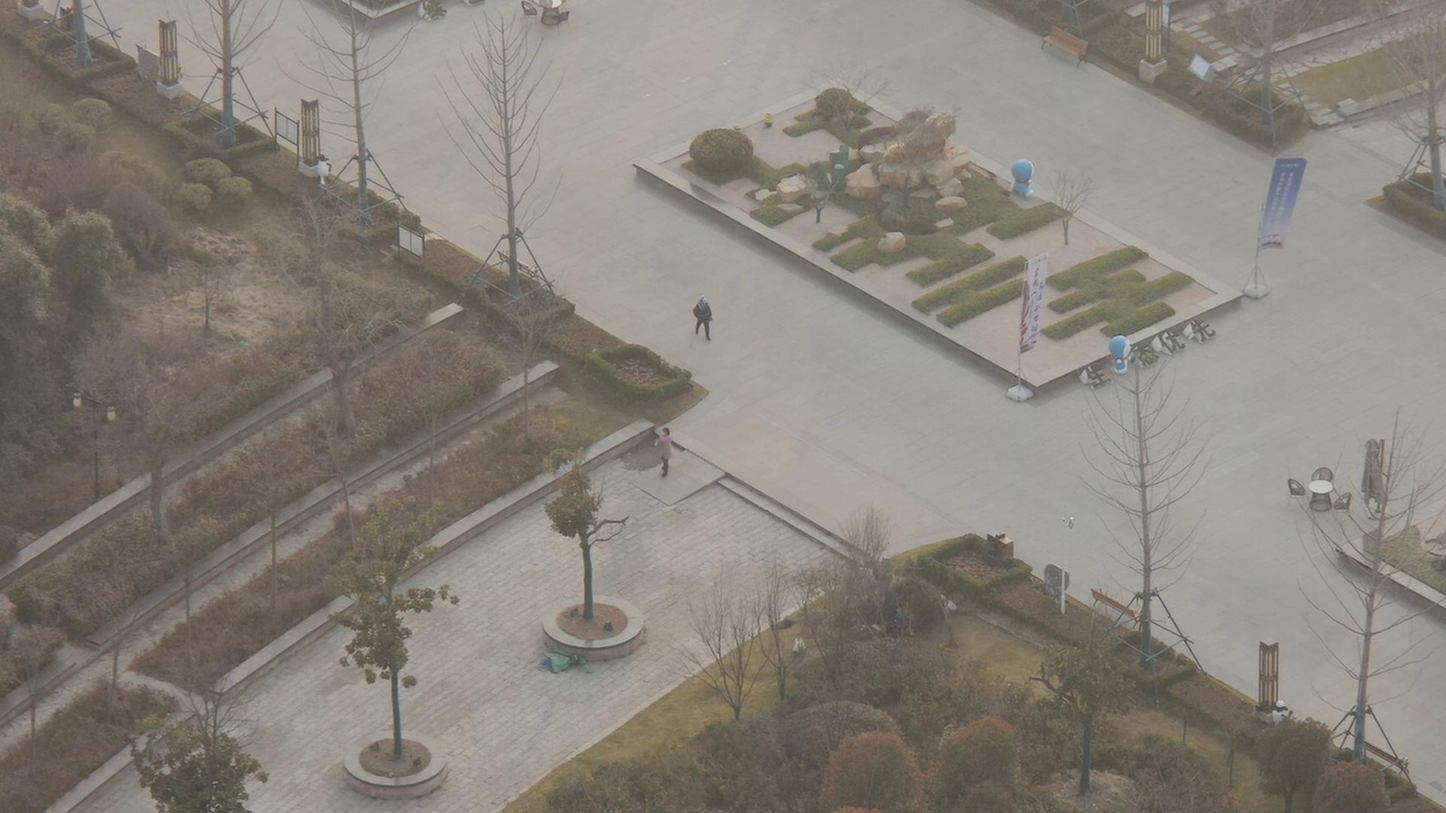human: (639, 414, 685, 480), (684, 282, 715, 336)
